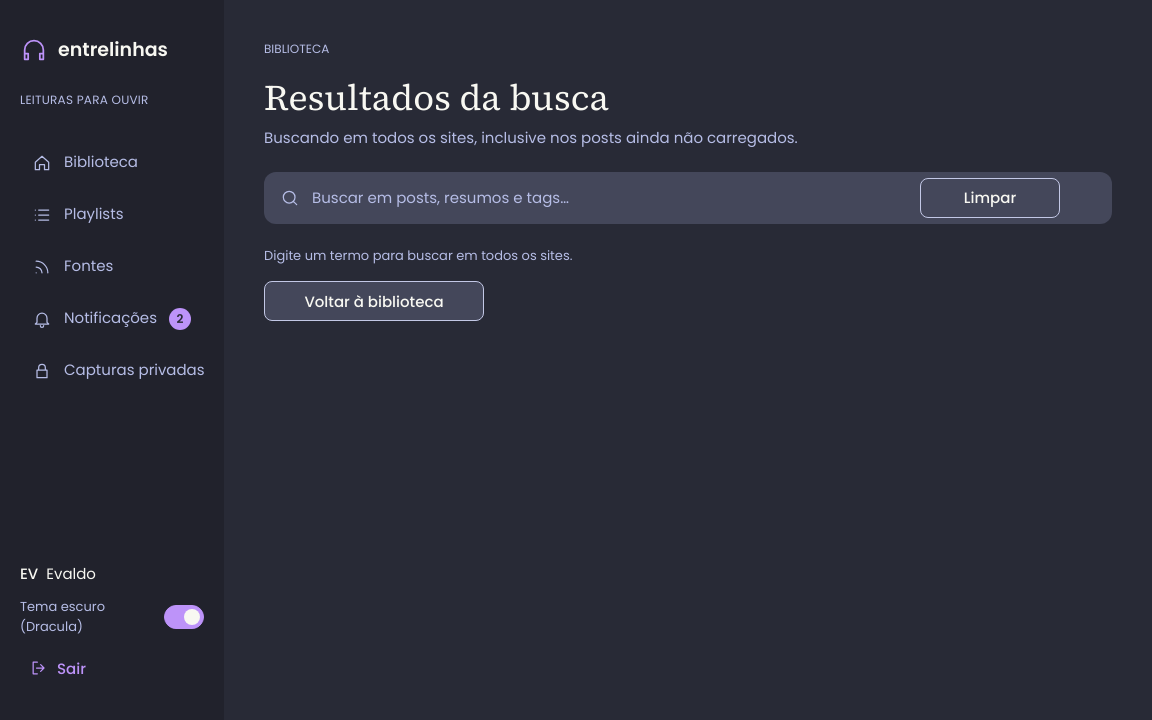
it: typing searches after a pause; Limpar clears the query and focuses the box
Expected: the text "Digite um termo para buscar em todos os sites." is shown, [264,246,572,265]
Type "profundezas" into the search field named "Buscar em todos os sites" at (610, 198), box [312,178,908,218]
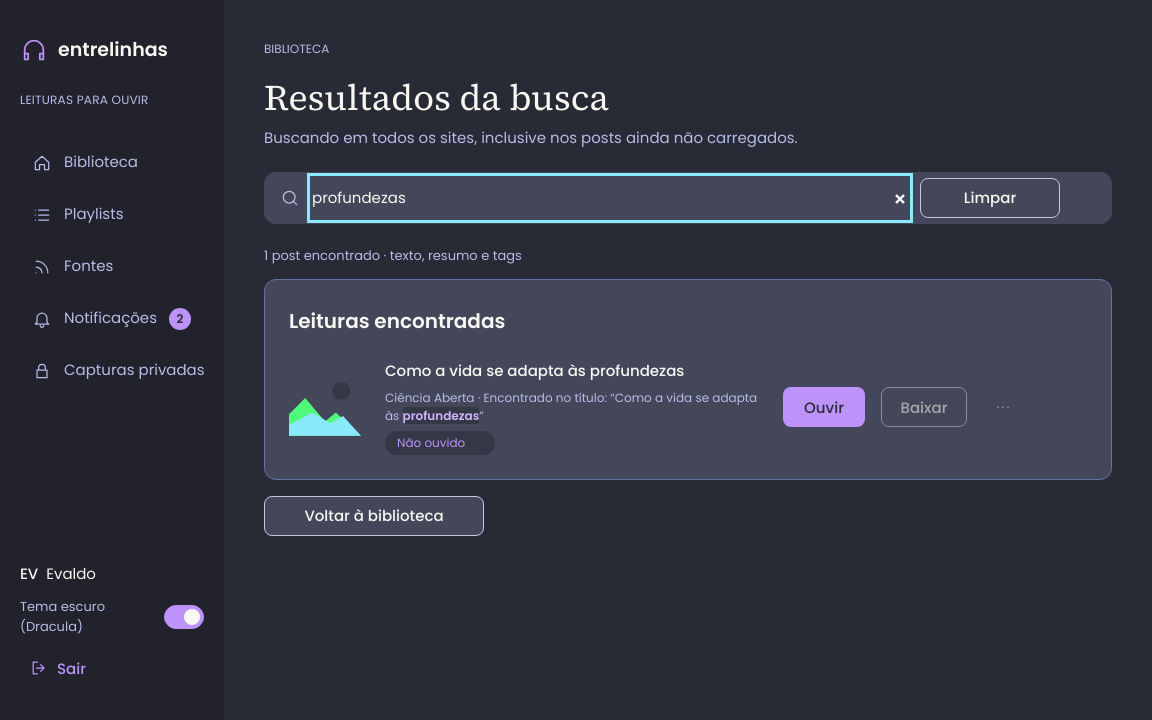
Now the text "1 post encontrado · texto, resumo e tags" is shown, box [264,246,522,265]
Click the button "Limpar" at (990, 198), box [920,178,1060,218]
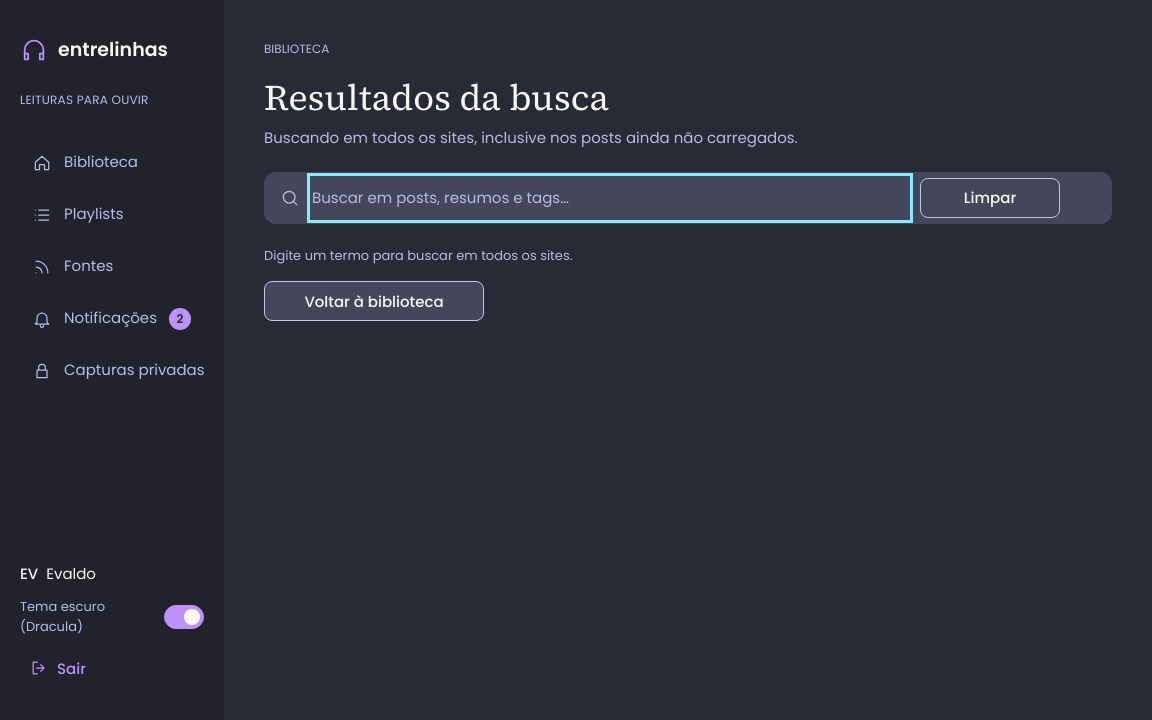
Now the search field named "Buscar em todos os sites" is empty, box [312,178,908,218]
Now the text "Digite um termo para buscar em todos os sites." is shown, box [264,246,572,265]
